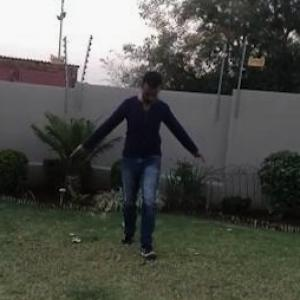land: (78, 59, 226, 280)
